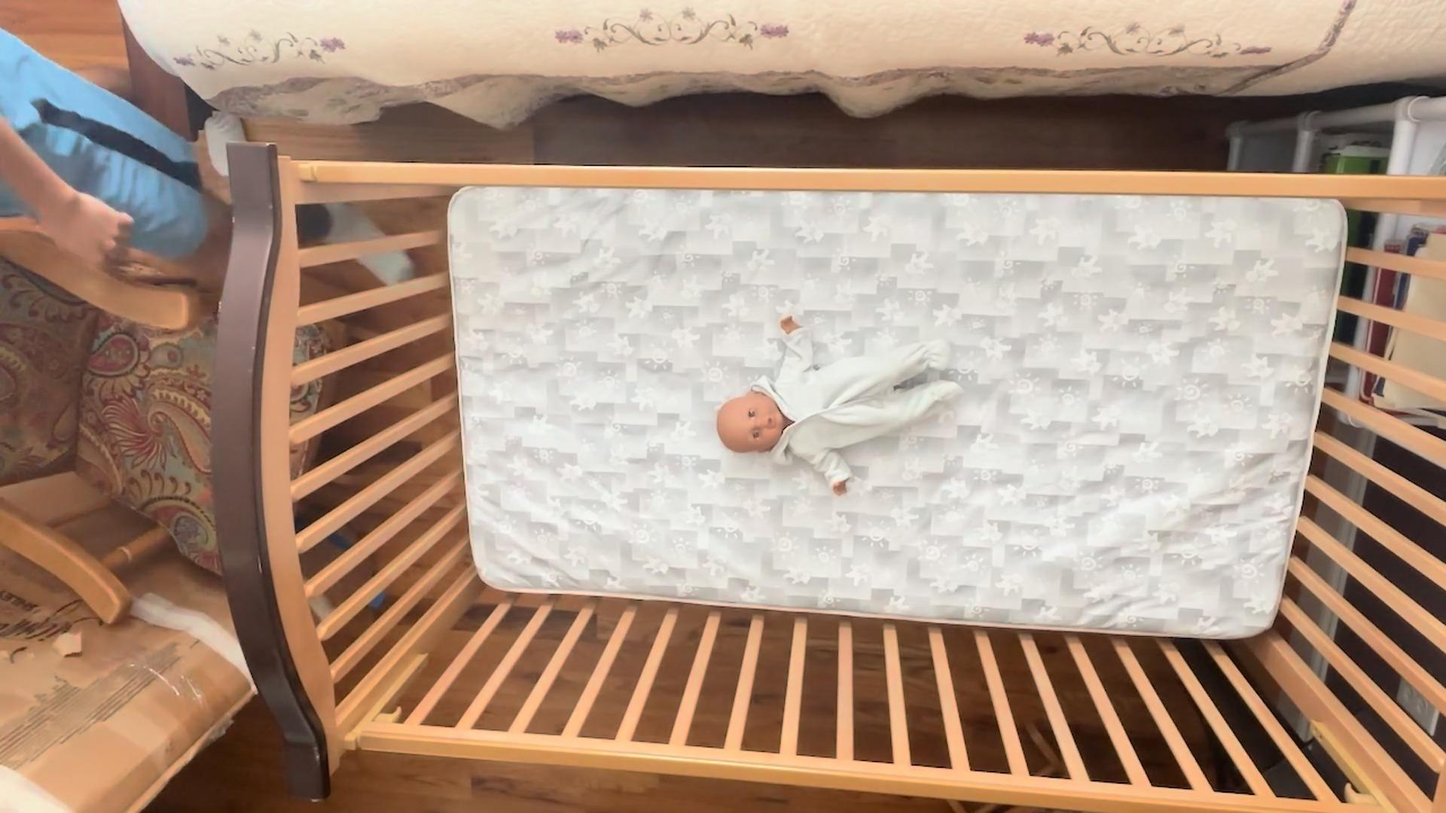baby: (712, 310, 967, 496)
